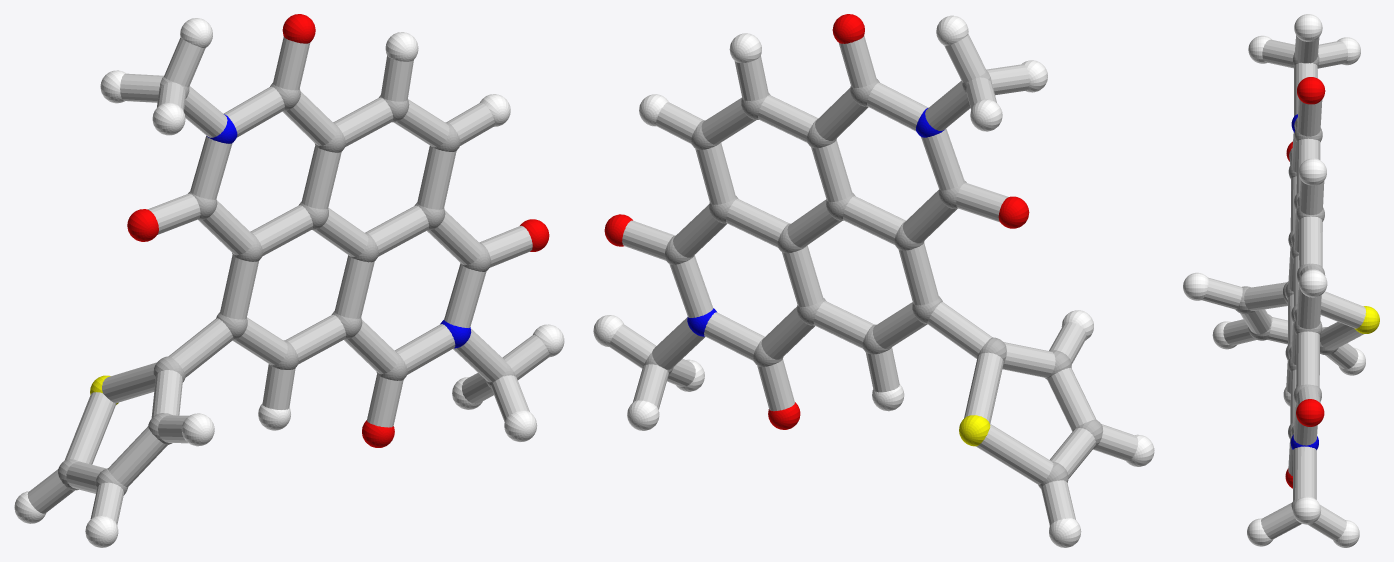
Rendered from Dimethyl_Naphthalene_Dicarboximide_Phi_20_Theta_280_Thiophene.glb.
3 views of the same model, side by side, from view 1: azimuth 30°, elevation 25°; view 2: azimuth 150°, elevation 25°; view 3: azimuth 270°, elevation 25° (orthographic). The views are drawn at different scales.
Visible parts, largest first — view 1: grp14119, grp7241, grp1, grp12309, grp11585; view 2: grp14119, grp7241, grp1, grp12309, grp13757, grp11585; view 3: grp14119, grp7241, grp1, grp12309, grp13757.
Part boxes in pixels (bbox=[...]): grp14119: bbox=[27, 36, 549, 524]; grp7241: bbox=[14, 18, 564, 547]; grp1: bbox=[58, 76, 516, 495]; grp12309: bbox=[127, 14, 549, 447]; grp11585: bbox=[207, 114, 471, 348]; grp14119: bbox=[609, 34, 1137, 525]; grp7241: bbox=[593, 15, 1154, 547]; grp1: bbox=[643, 70, 1102, 488]; grp12309: bbox=[604, 14, 1029, 429]; grp13757: bbox=[959, 415, 990, 446]; grp11585: bbox=[687, 108, 944, 336]; grp14119: bbox=[1201, 35, 1365, 540]; grp7241: bbox=[1183, 14, 1365, 547]; grp1: bbox=[1235, 53, 1338, 509]; grp12309: bbox=[1285, 77, 1325, 488]; grp13757: bbox=[1354, 306, 1379, 333].
Size of the model in its own units: 10.92 by 9.75 by 4.17.
